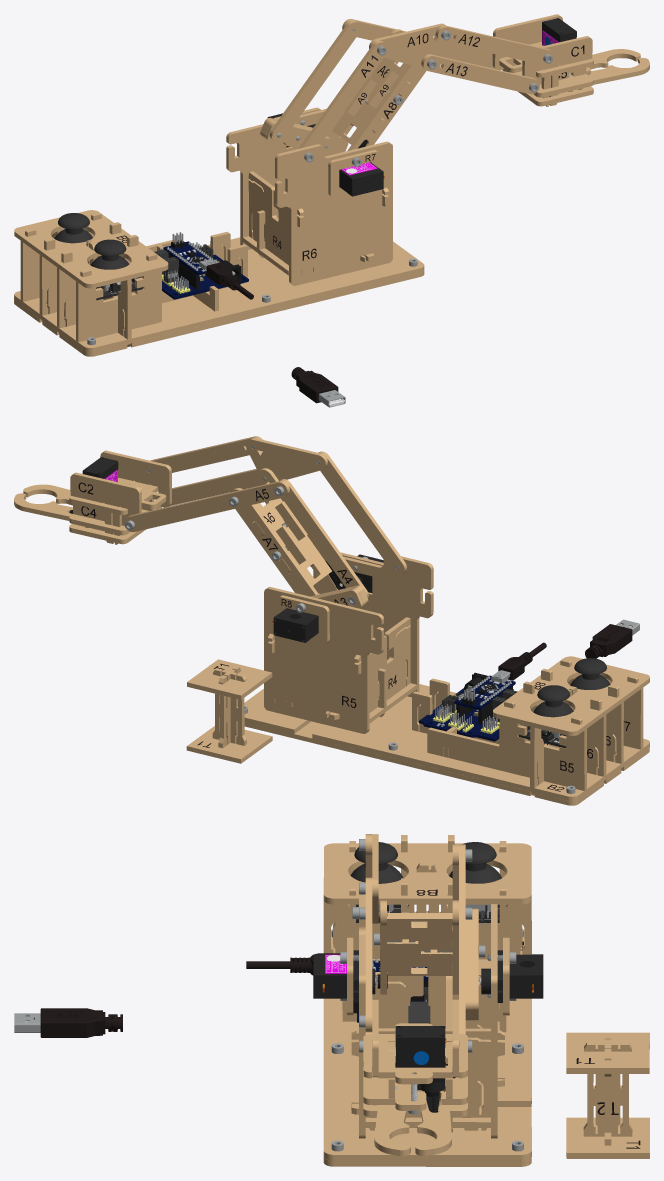
3 views of the same model, one above another, from view 1: azimuth 30°, elevation 25°; view 2: azimuth 150°, elevation 25°; view 3: azimuth 270°, elevation 25° (orthographic). The views are drawn at different scales.
Visible parts, largest first — view 1: NAUO14, NAUO2, NAUO8, NAUO7, NAUO15, NAUO13, NAUO21, NAUO1, NAUO25, NAUO27, NAUO28, NAUO6 (+25 smaller); view 2: NAUO15, NAUO2, NAUO4, NAUO14, NAUO8, NAUO22, NAUO13, NAUO1, NAUO25, NAUO26, NAUO5, NAUO33 (+27 smaller); view 3: NAUO2, NAUO8, NAUO29, NAUO9, NAUO13, NAUO44, NAUO34, NAUO12, NAUO41, USBCableend, NAUO42, NAUO72 (+25 smaller).
Part boxes in pixels (x1,y1,x2,y2): NAUO14: (275, 141, 392, 285); NAUO2: (14, 237, 424, 352); NAUO8: (14, 210, 168, 288); NAUO7: (76, 253, 161, 342); NAUO15: (226, 108, 326, 249); NAUO13: (248, 171, 304, 265); NAUO21: (269, 20, 361, 142); NAUO1: (14, 270, 424, 356); NAUO25: (298, 40, 387, 148); NAUO27: (435, 25, 553, 65); NAUO28: (421, 54, 539, 94); NAUO6: (57, 235, 247, 333); NAUO15: (264, 587, 384, 733); NAUO2: (244, 684, 649, 801); NAUO4: (427, 700, 586, 790); NAUO14: (313, 556, 433, 697); NAUO8: (493, 656, 649, 735); NAUO22: (124, 481, 289, 532); NAUO13: (354, 617, 410, 712); NAUO1: (244, 721, 649, 805); NAUO25: (318, 451, 407, 575); NAUO26: (246, 438, 327, 480); NAUO5: (412, 681, 606, 781); NAUO33: (70, 472, 141, 544); NAUO2: (323, 930, 531, 1160); NAUO8: (323, 843, 531, 904); NAUO29: (380, 913, 452, 975); NAUO9: (323, 863, 531, 959); NAUO13: (372, 972, 490, 1038); NAUO44: (566, 1032, 649, 1073); NAUO34: (363, 1023, 467, 1084); NAUO12: (351, 1028, 504, 1130); NAUO41: (566, 1117, 649, 1158); USBCableend: (14, 1008, 122, 1037); NAUO42: (583, 1042, 632, 1136); NAUO72: (395, 1026, 455, 1092).
Bounding box in the file's own units: 421 × 157 × 290.
